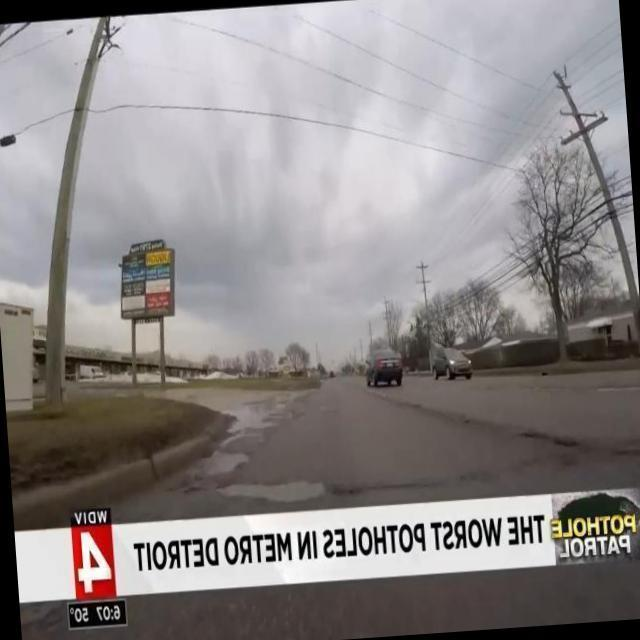Pothole: (195, 406, 275, 490), (225, 473, 322, 508)
